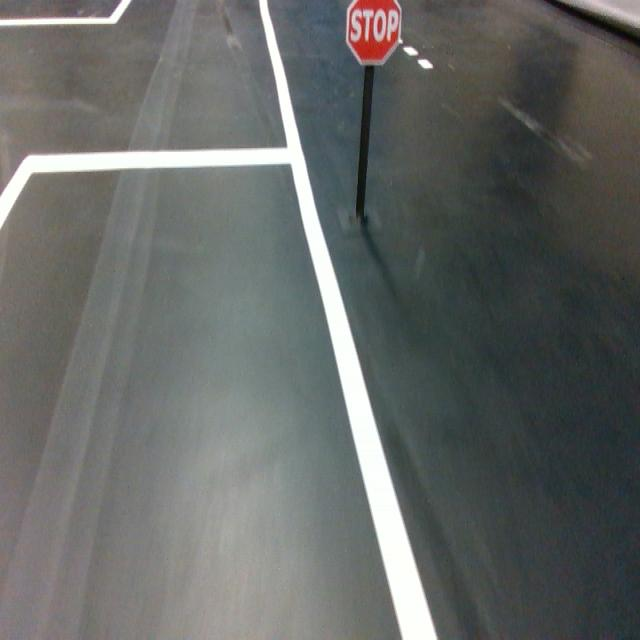stop-sign: (344, 0, 403, 67)
